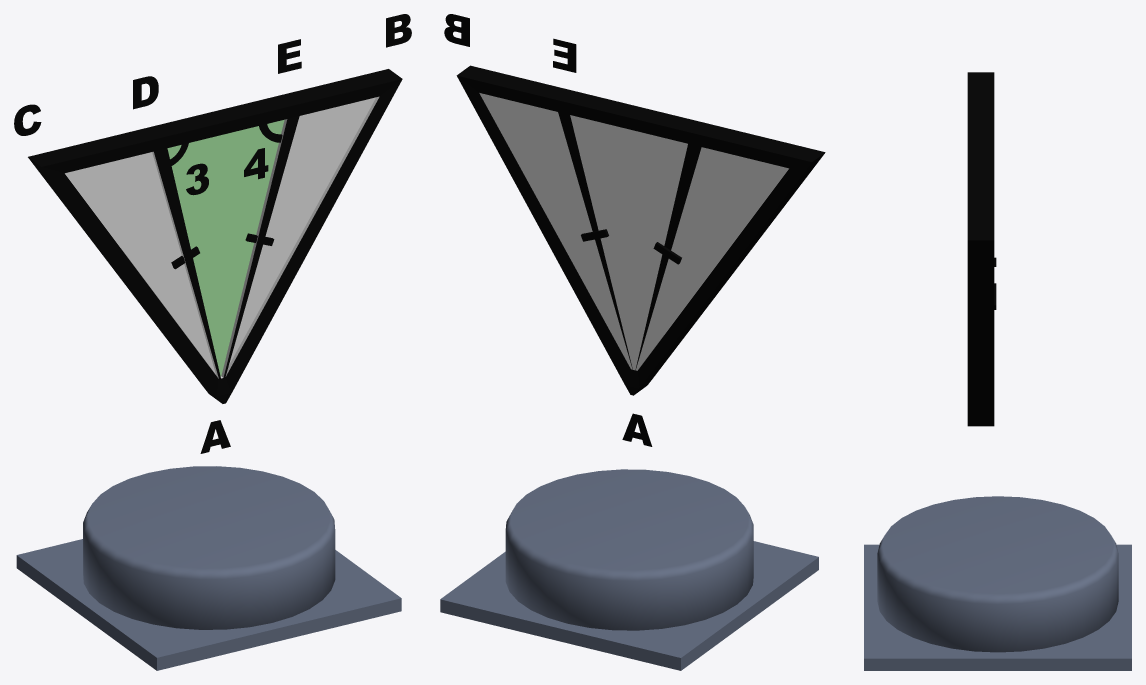
The picture shows the model from 3 angles, left to right: view 1: azimuth 30°, elevation 25°; view 2: azimuth 150°, elevation 25°; view 3: azimuth 270°, elevation 25°; orthographic projection. The views are drawn at different scales.
Visible parts, largest first — view 1: Cube.001, Cube, Text.004, Text.001; view 2: Cube.001, Cube, Text.004; view 3: Cube, Cube.001.
Part boxes in pixels (x1,y1,x2,y2): Cube.001: [28, 69, 402, 403]; Cube: [16, 466, 401, 670]; Text.004: [386, 14, 411, 47]; Text.001: [133, 76, 158, 109]; Cube.001: [456, 65, 825, 395]; Cube: [440, 469, 818, 670]; Text.004: [444, 14, 469, 46]; Cube: [864, 496, 1131, 670]; Cube.001: [967, 72, 994, 426].
Bounding box in the file's own units: 14.86 × 19.13 × 9.09.
